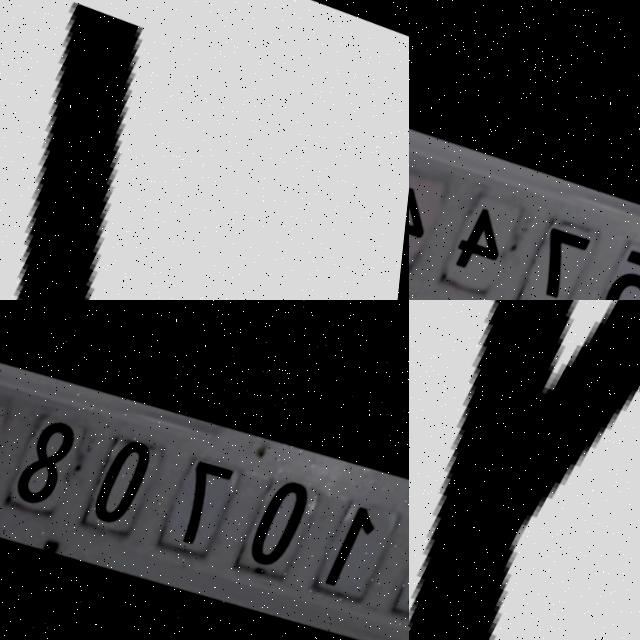0: (223, 455, 362, 604), (65, 411, 203, 558)
1: (298, 482, 409, 628)
3: (0, 374, 44, 511)
4: (443, 187, 539, 299), (409, 166, 463, 271)
5: (595, 237, 640, 300)
7: (142, 438, 277, 579), (520, 209, 617, 300)
8: (0, 391, 122, 534)
L: (0, 0, 310, 300)
Y: (409, 300, 640, 640)
